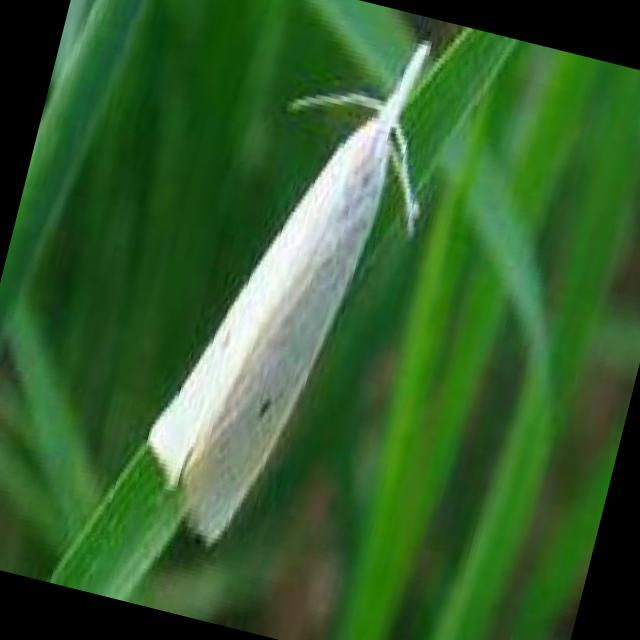stem-borer: (145, 36, 431, 561)
